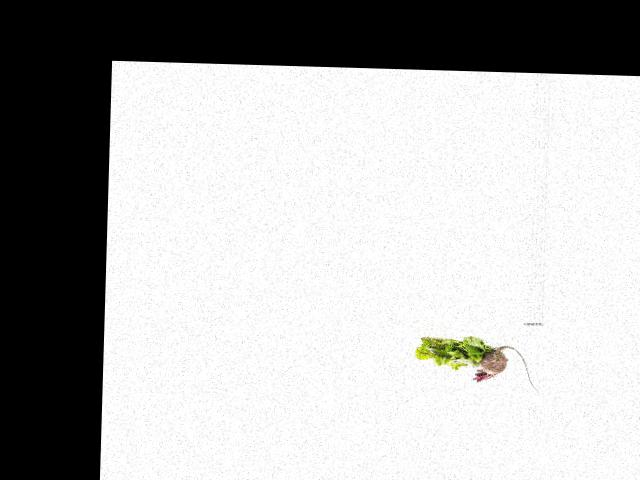beet: (472, 344, 540, 391)
